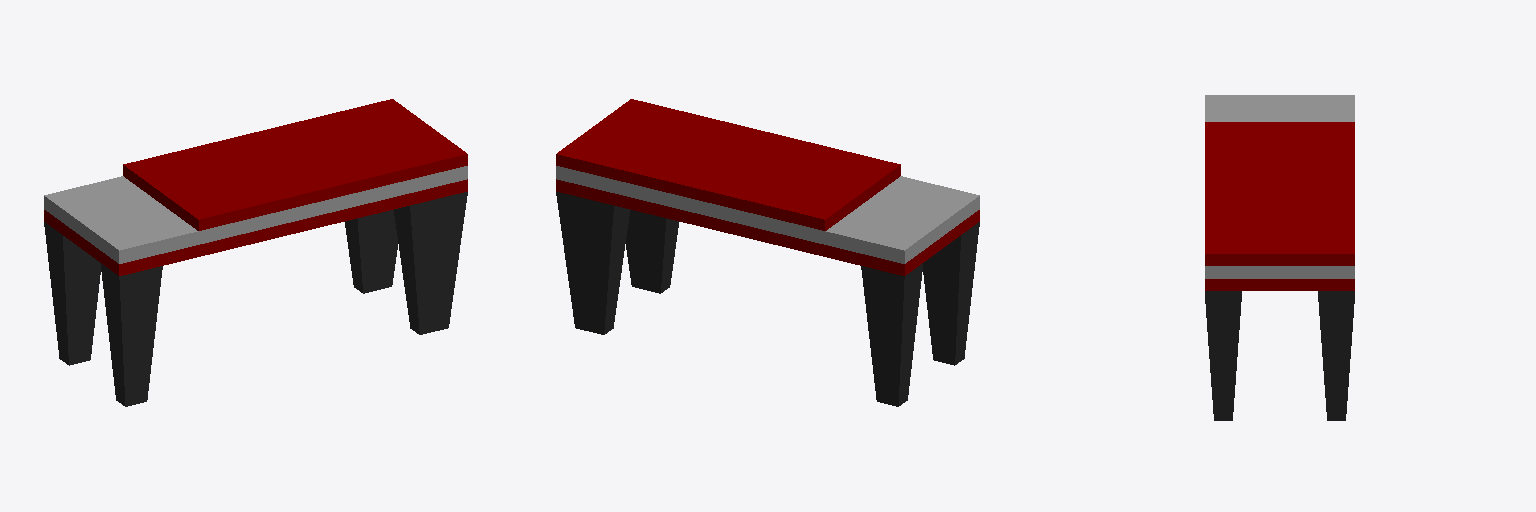
Rendered from bed.obj.
3 renders of one model, left to right at view 1: azimuth 30°, elevation 25°; view 2: azimuth 150°, elevation 25°; view 3: azimuth 270°, elevation 25°, orthographic.
Visible parts, largest first — view 1: Cube; view 2: Cube; view 3: Cube.
Part boxes in pixels (x1,y1,x2,y2): Cube: (44, 99, 467, 406); Cube: (556, 99, 979, 406); Cube: (1205, 95, 1354, 420).
Size of the model in its own units: 5.34 by 2.55 by 2.